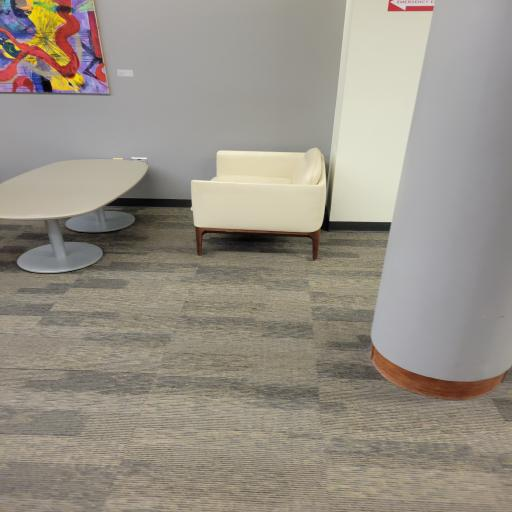chair: (188, 145, 334, 265)
painting: (0, 0, 113, 97)
table: (0, 149, 150, 288)
